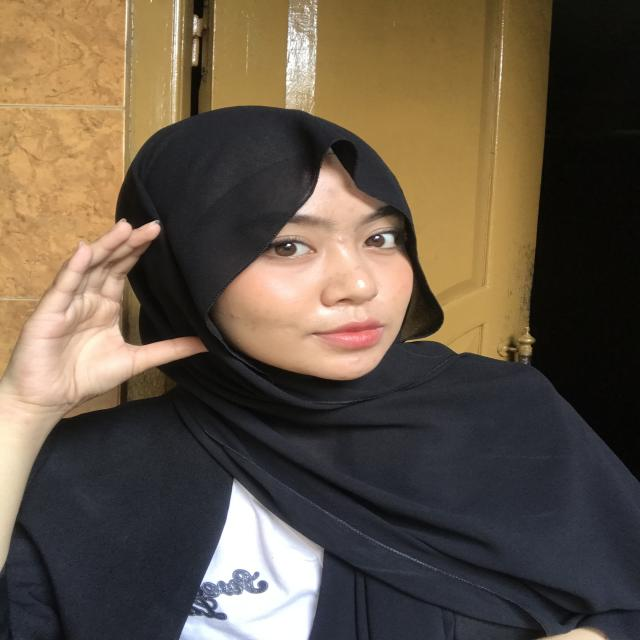mendengar: (8, 197, 218, 425)
